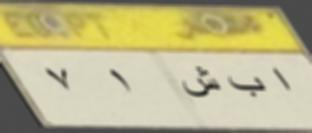1: (108, 62, 135, 100)
7: (44, 65, 74, 97)
alif: (269, 64, 292, 97)
baa: (228, 72, 265, 104)
sheen: (178, 63, 222, 103)
